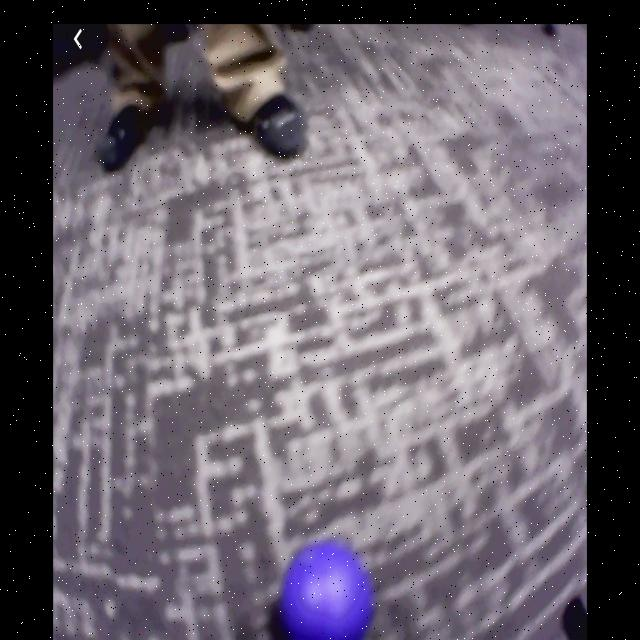ball: (282, 542, 375, 640)
